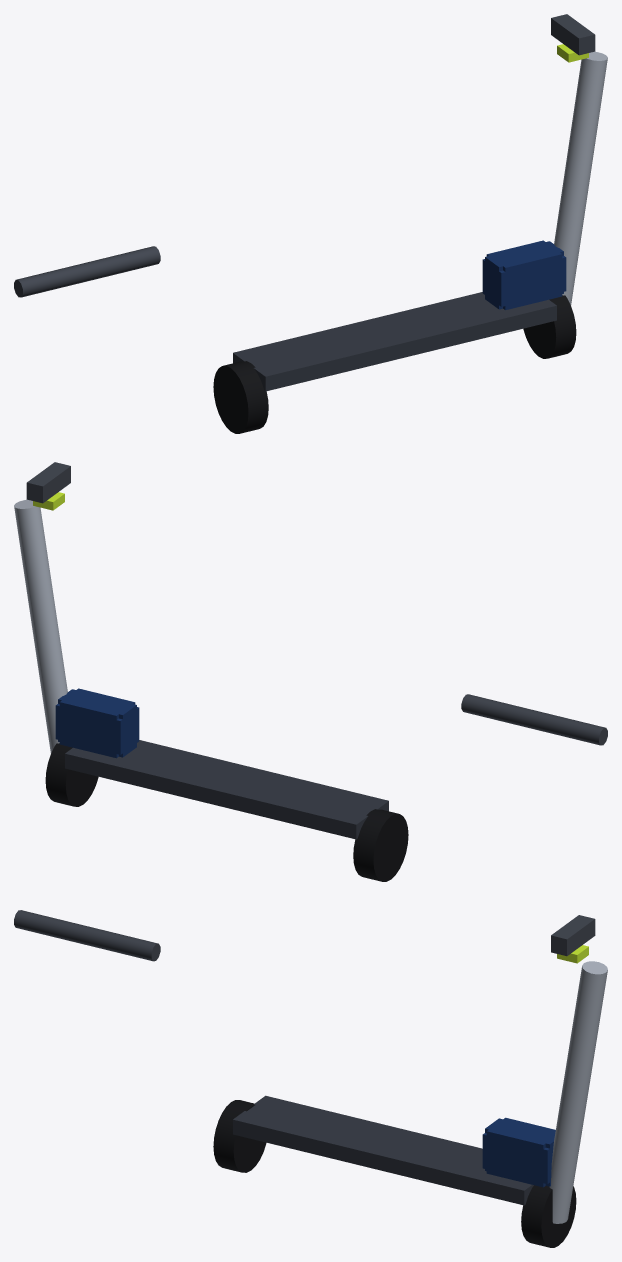
3 views of the same model, one above another, from view 1: azimuth 30°, elevation 25°; view 2: azimuth 150°, elevation 25°; view 3: azimuth 330°, elevation 25° (orthographic).
Visible parts, largest first — view 1: Patinete eléctrico urbano; view 2: Patinete eléctrico urbano; view 3: Patinete eléctrico urbano.
Part boxes in pixels (x1=…): Patinete eléctrico urbano: x1=14, y1=14, x2=607, y2=433; Patinete eléctrico urbano: x1=14, y1=462, x2=607, y2=881; Patinete eléctrico urbano: x1=14, y1=910, x2=607, y2=1247.
Size of the model in its own units: 1 by 0.5234 by 0.1033.
